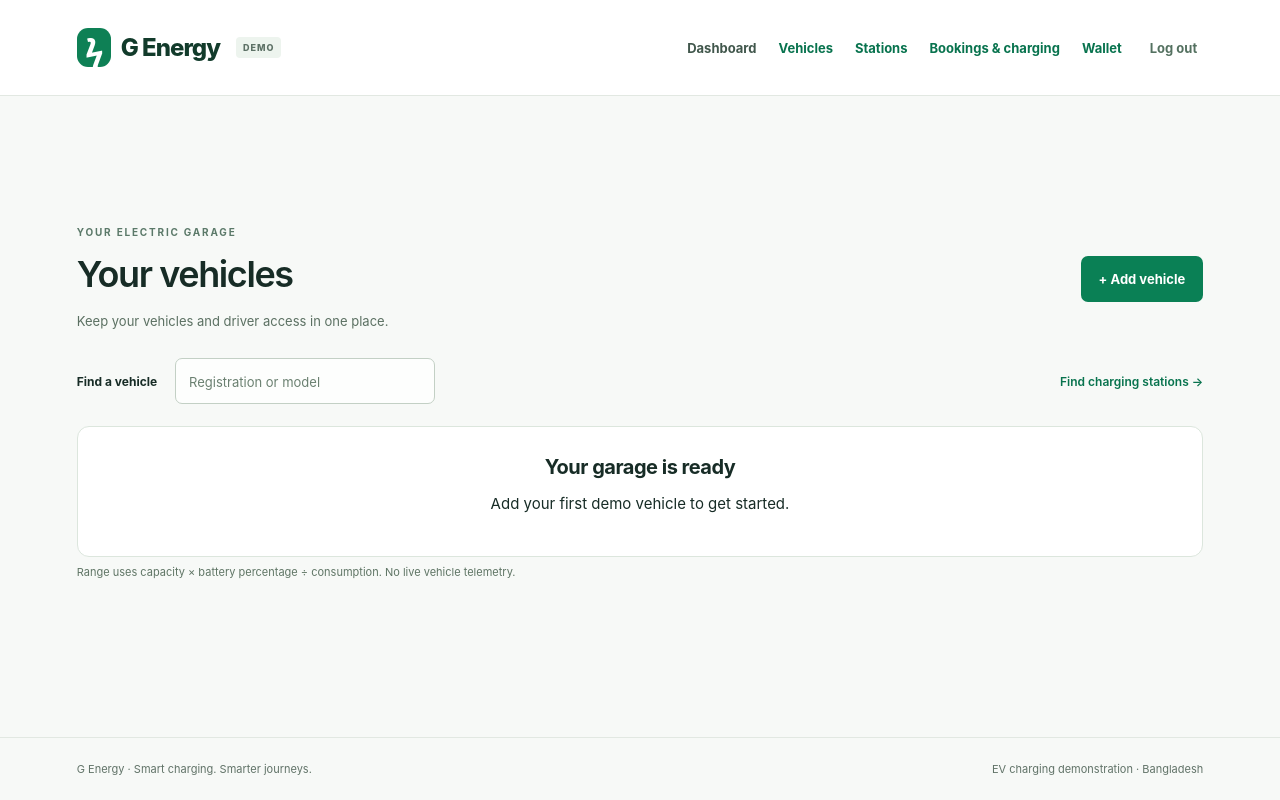
it: Member 2 screens › adds an owner vehicle and refreshes the garage
Expected: the heading "Your garage is ready" is shown, [545,455,735,479]
Click the button "+ Add vehicle" at point(1142, 279), box [1081,256,1203,302]
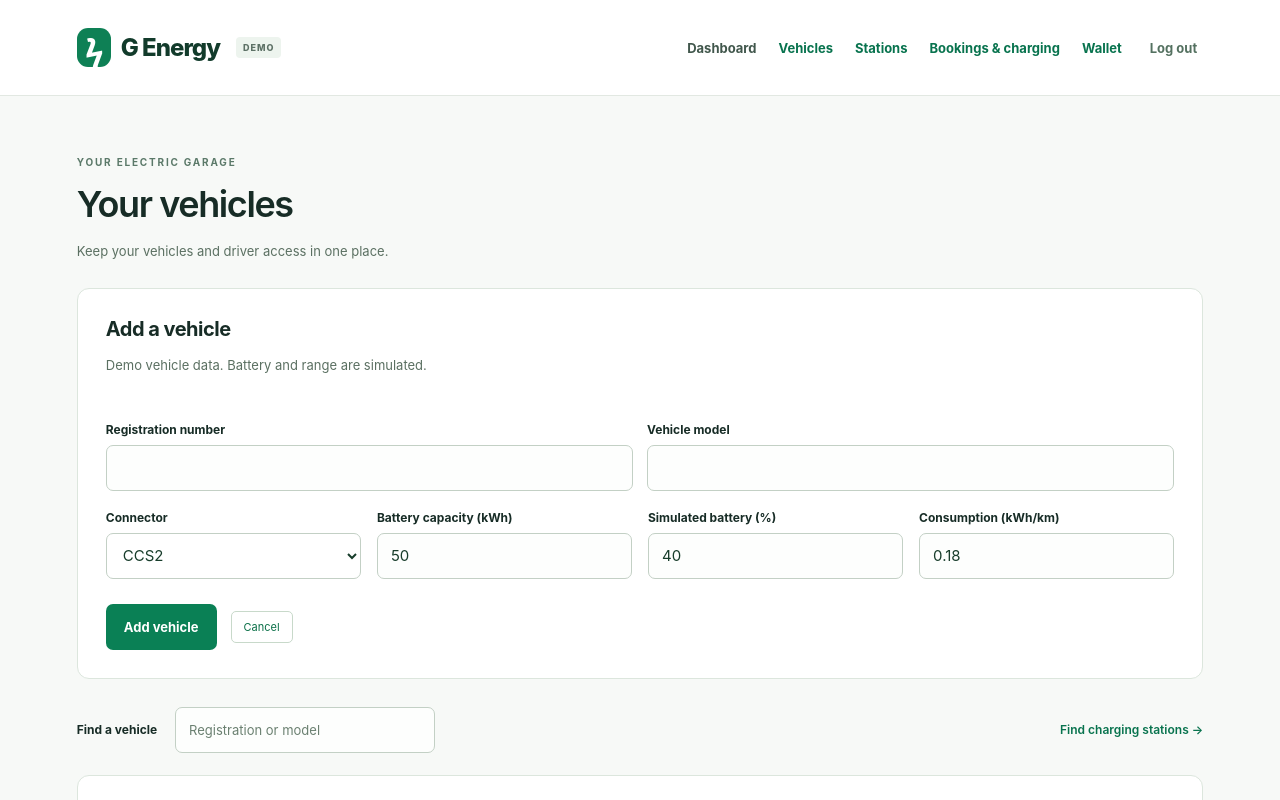
Type "DHAKA AB-1234" into the field labelled "Registration number" at point(369, 468), box [106,445,633,491]
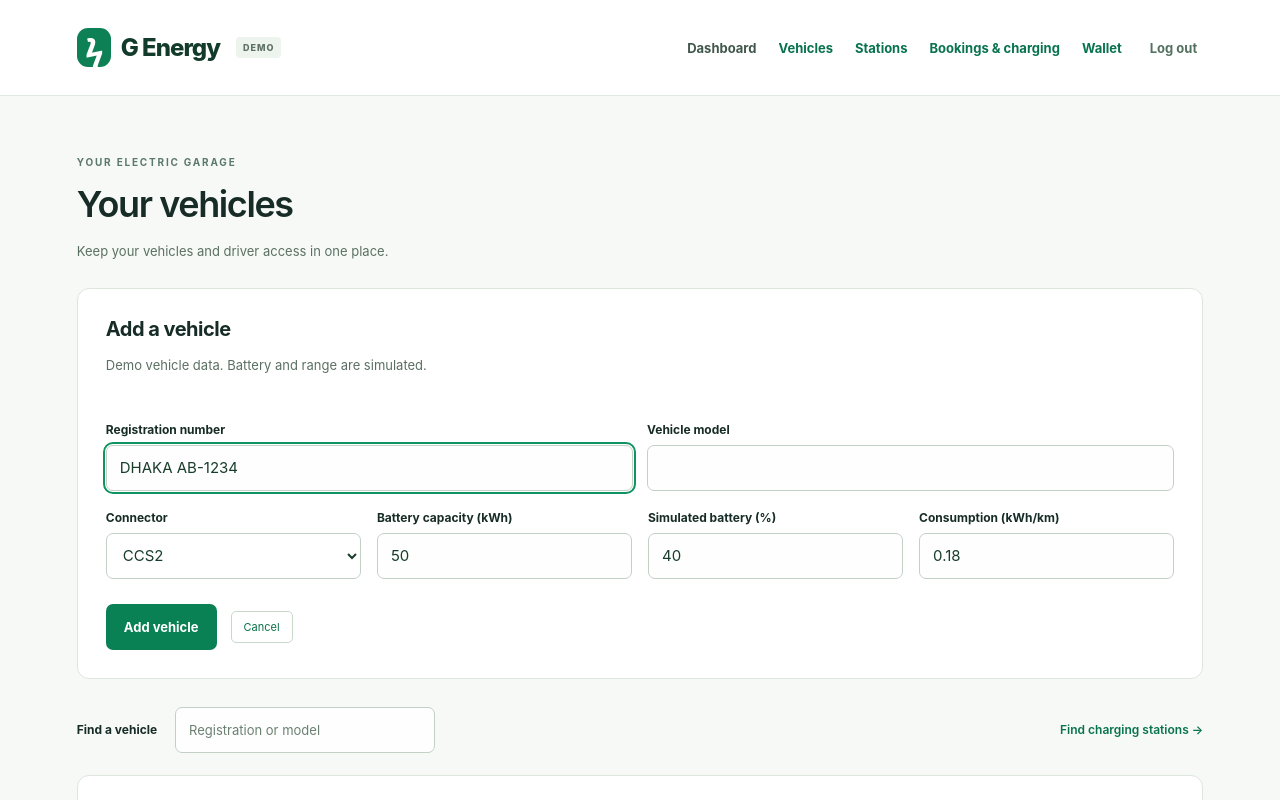
Type "Demo EV" into the field labelled "Vehicle model" at point(911, 468), box [647,445,1174,491]
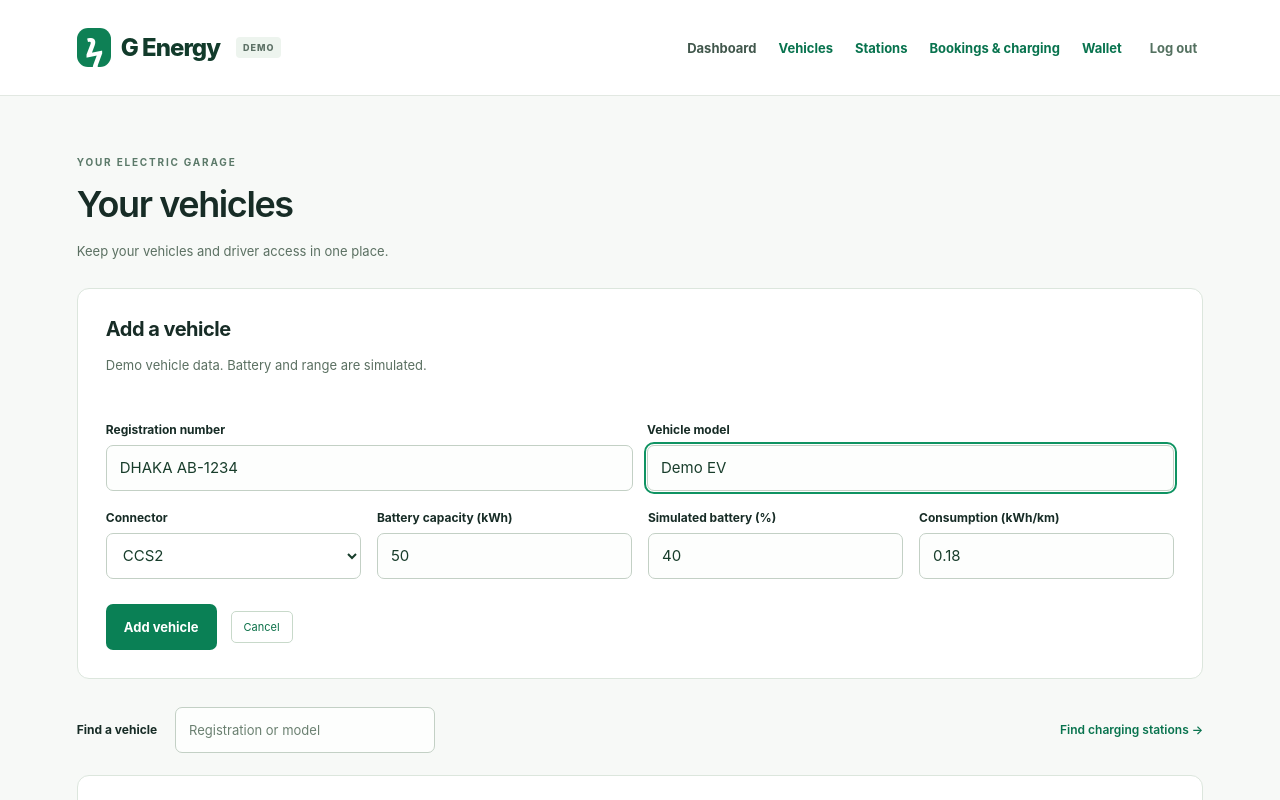
Click the button "Add vehicle" at point(161, 627), box [106,604,216,650]
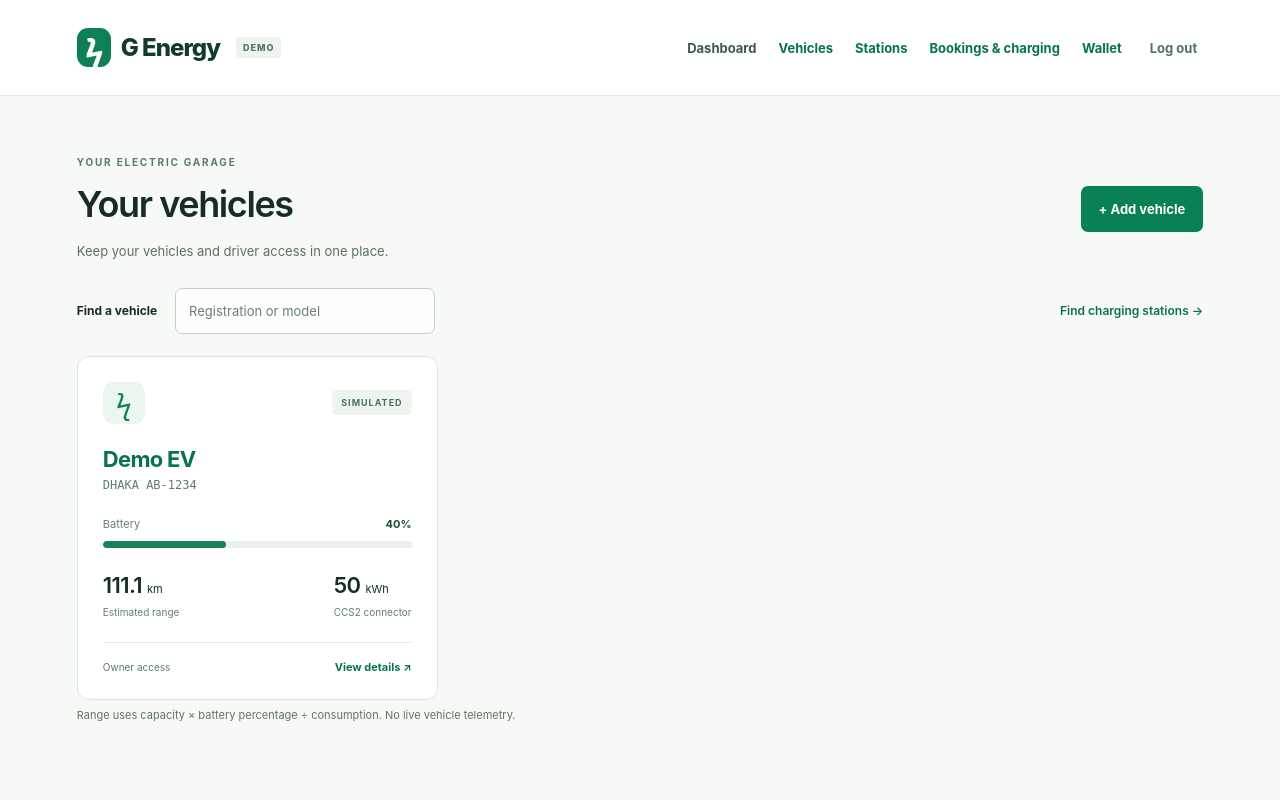
Result: the link "Demo EV" is shown at [103,446,196,472]
Result: the text "Estimated range" is shown at [103,606,179,618]
